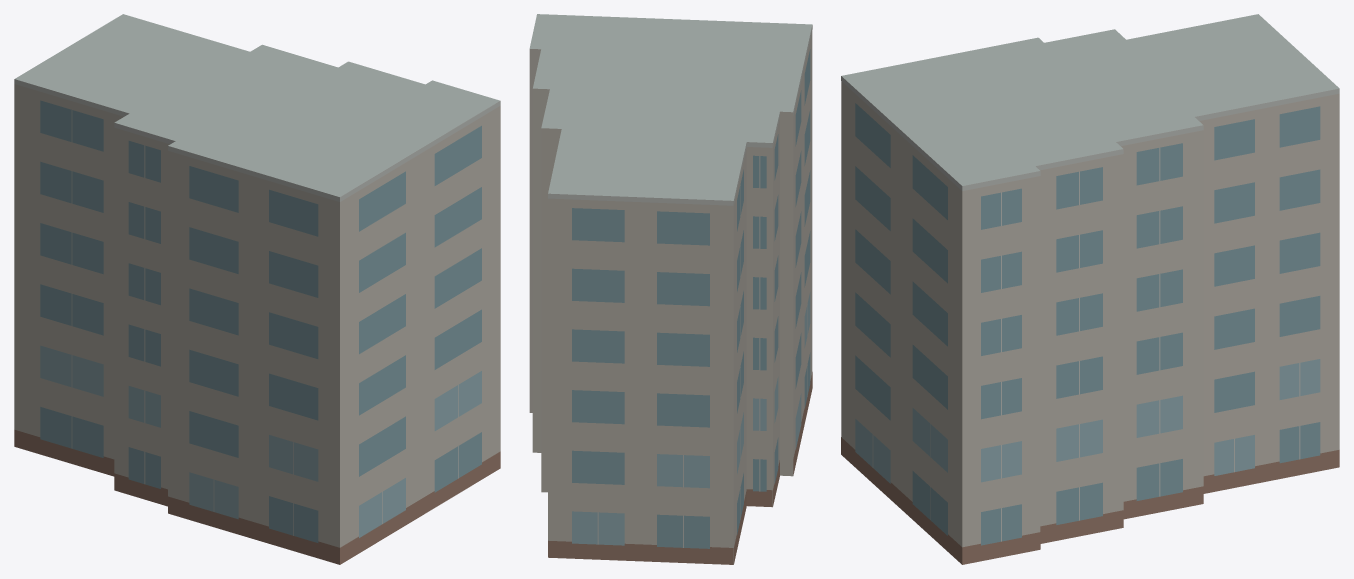
File: survey-upis-32992820.glb
The picture shows the model from 3 angles, left to right: view 1: azimuth 30°, elevation 25°; view 2: azimuth 150°, elevation 25°; view 3: azimuth 270°, elevation 25°; orthographic projection. The views are drawn at different scales.
Visible parts, largest first — view 1: survey-upis-32992820.tmp; view 2: survey-upis-32992820.tmp; view 3: survey-upis-32992820.tmp.
Part boxes in pixels (<box>): survey-upis-32992820.tmp: <box>14,14,500,564</box>; survey-upis-32992820.tmp: <box>529,14,812,564</box>; survey-upis-32992820.tmp: <box>841,14,1339,564</box>.
Size of the model in its own units: 17.85 by 18.3 by 21.84.
